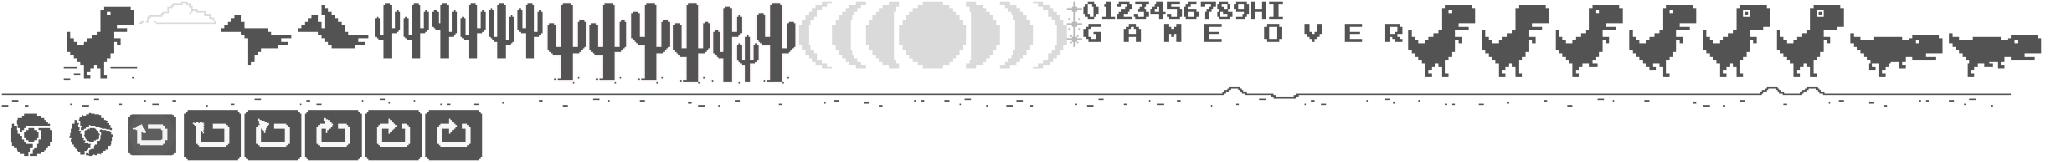10: (302, 107, 364, 159), (243, 106, 303, 159), (180, 107, 242, 159), (423, 107, 485, 159), (363, 107, 423, 159), (124, 108, 179, 157)
4: (458, 0, 543, 59)
5: (670, 0, 798, 85)
6: (57, 1, 142, 88), (1550, 0, 1626, 81), (1404, 0, 1479, 81), (1479, 1, 1552, 82), (1626, 0, 1698, 81)
7: (1772, 0, 1846, 81), (1699, 0, 1771, 81)
8: (1847, 29, 1945, 80), (1947, 29, 2044, 80)
9: (218, 10, 294, 69), (295, 1, 368, 52)
cactus: (543, 0, 586, 85)
dead-t-rex: (401, 0, 458, 59)
pterodactyl: (586, 0, 671, 85)
t-rex: (370, 0, 402, 59)
